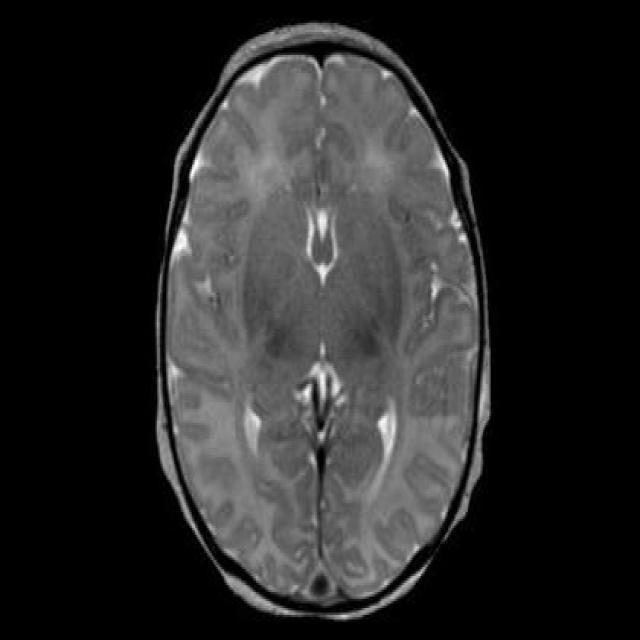notumor: (152, 23, 494, 624)
